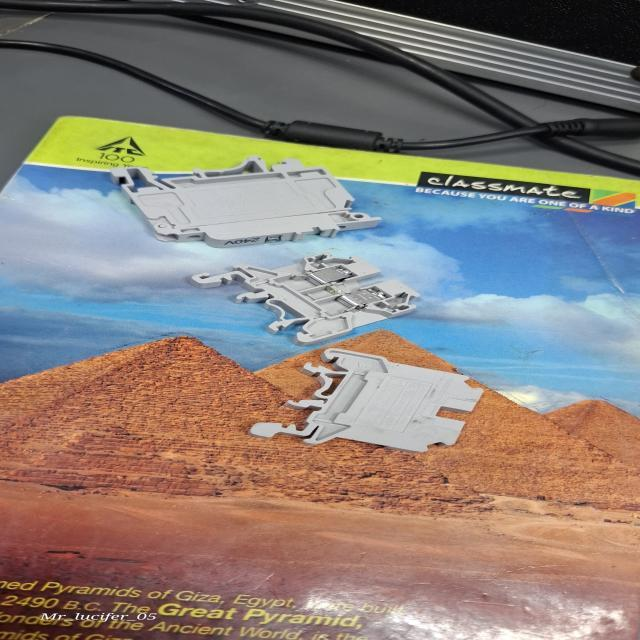Inverted: (246, 349, 491, 453)
Pass: (185, 250, 424, 348)
